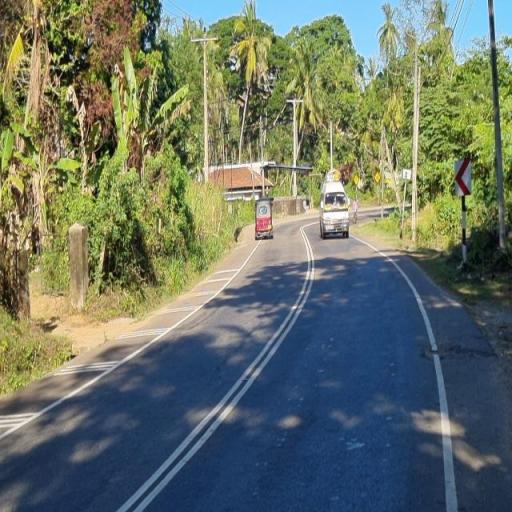double_white_line: (112, 221, 322, 510)
